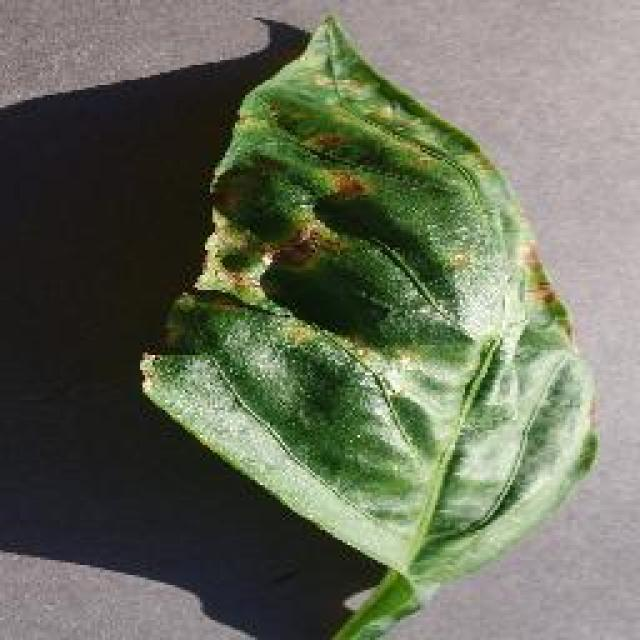Chilli_Bacterial_Spot: (135, 10, 603, 638), (185, 15, 575, 365), (195, 125, 373, 310), (513, 237, 575, 345), (273, 225, 325, 273), (298, 125, 348, 157), (322, 168, 368, 202), (442, 245, 472, 275)
